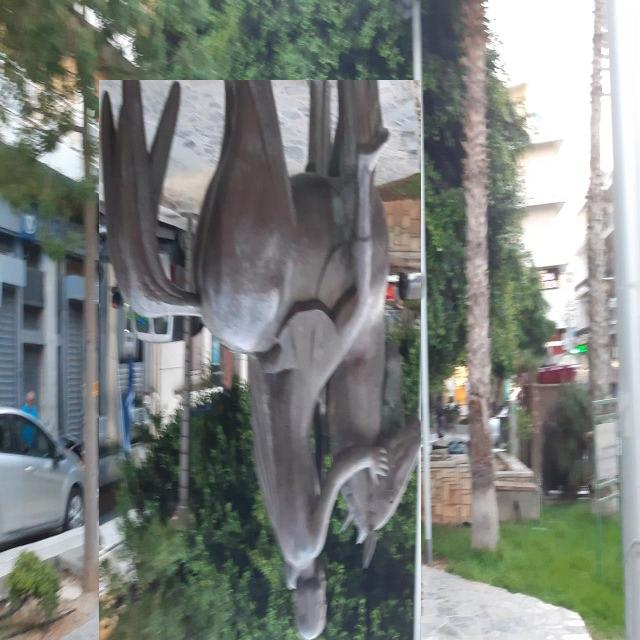Aretousa: (100, 81, 422, 640)
